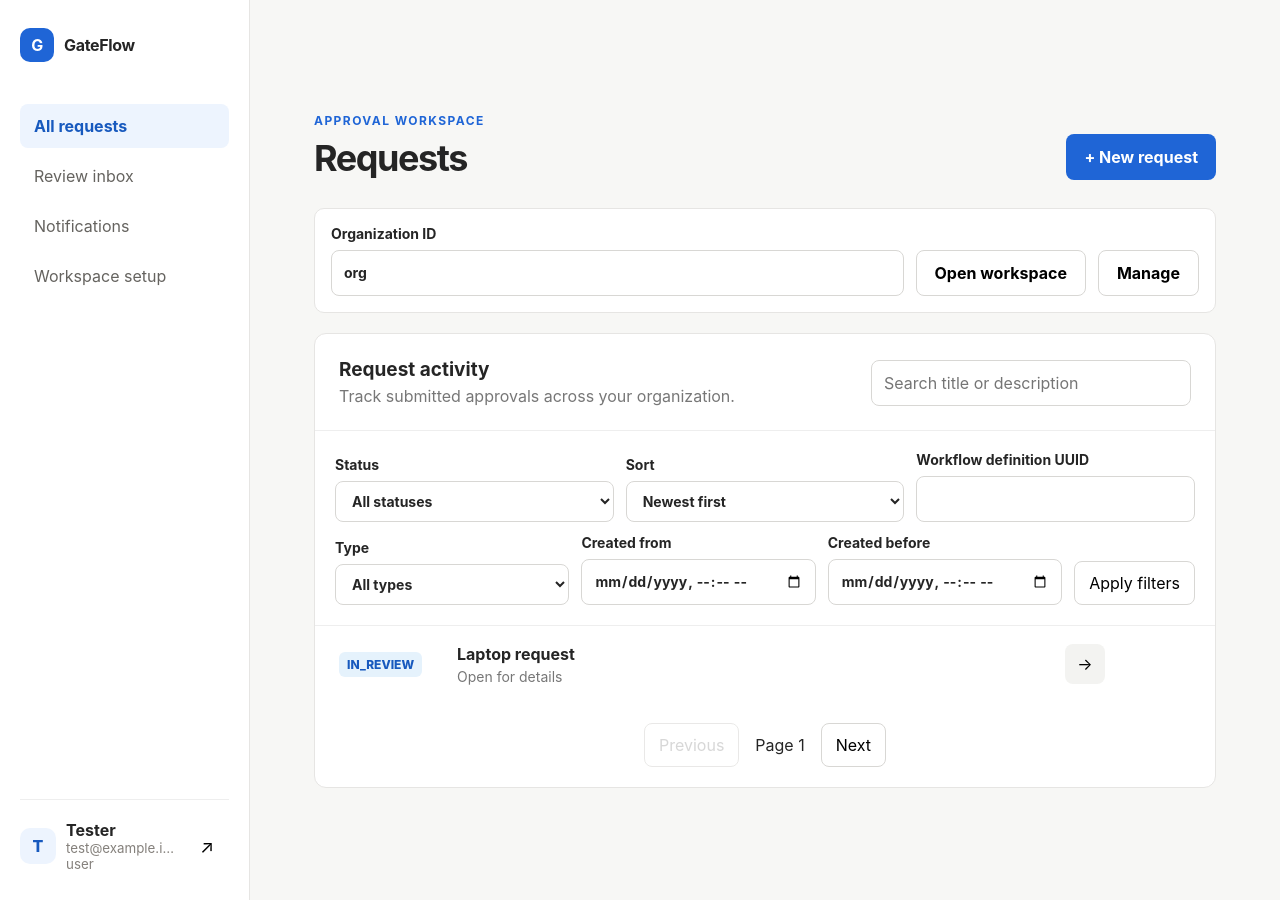
Test: clears the account only after server logout succeeds
The width and height of the screenshot is (1280, 900).
Step 1. Click the button named "Sign out" → (207, 846), box left=185, top=824, right=229, bottom=868
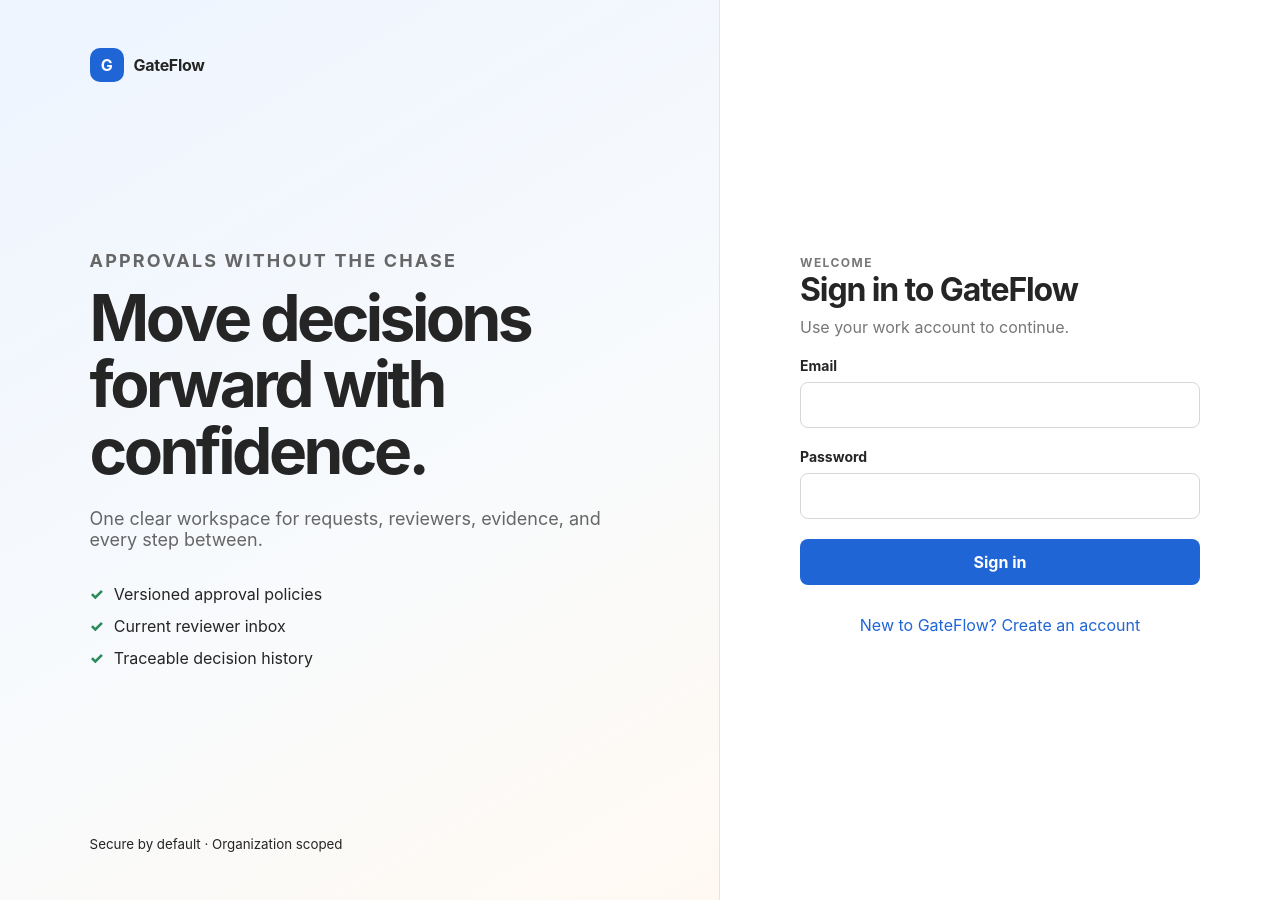
expect the text "Sign in to GateFlow" is shown: met, box left=800, top=270, right=1078, bottom=309
